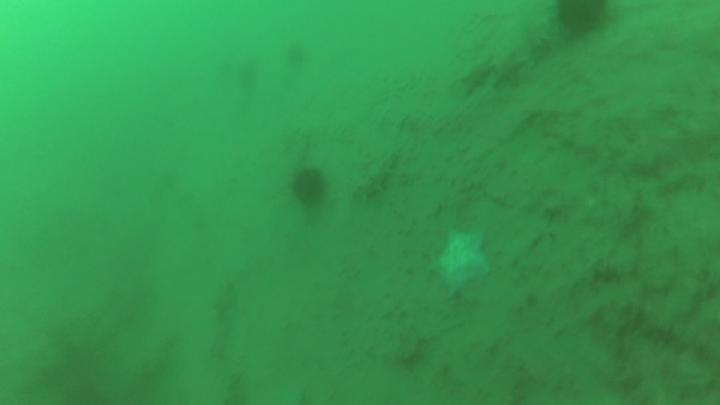echinus: (293, 174, 328, 210)
holothurian: (355, 155, 395, 202)
starfish: (434, 231, 493, 297), (559, 1, 607, 36)
